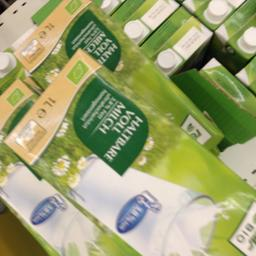milk: (7, 47, 255, 254)
